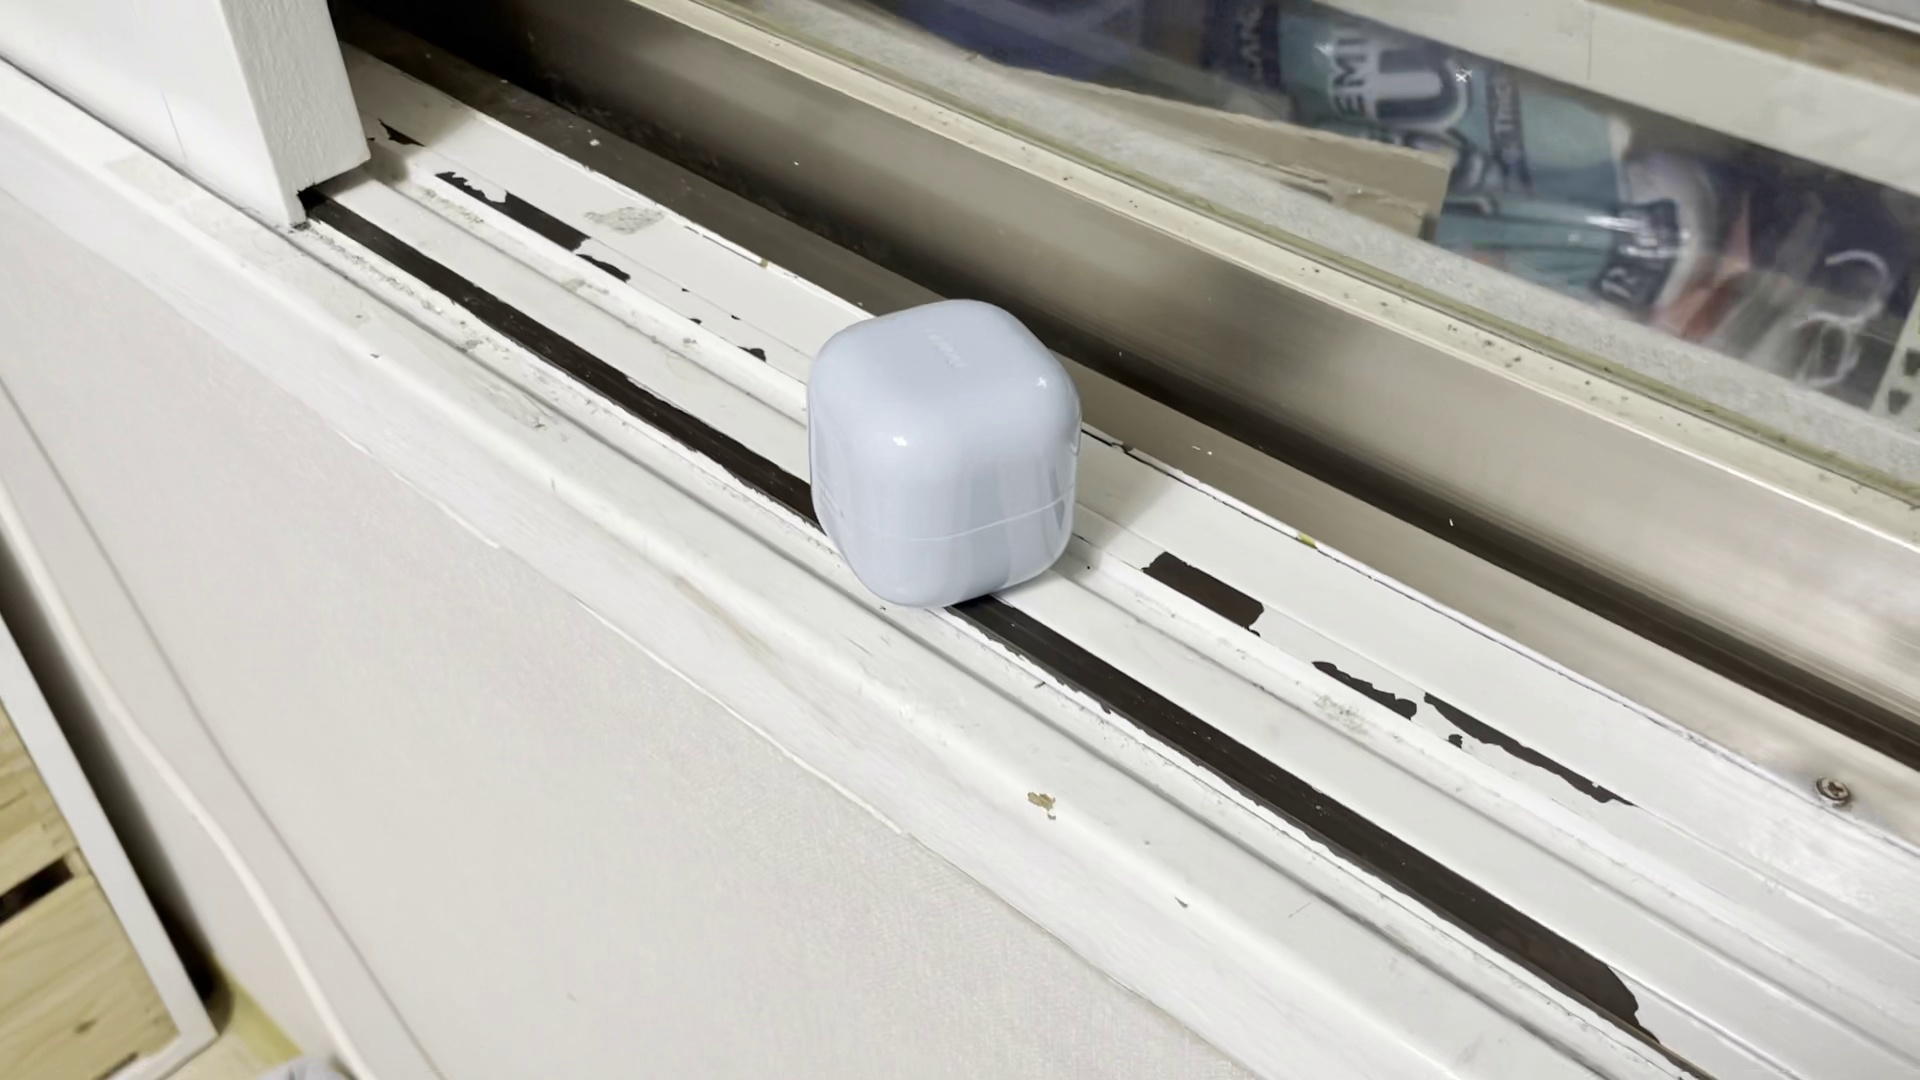cream: (804, 295, 1085, 607)
